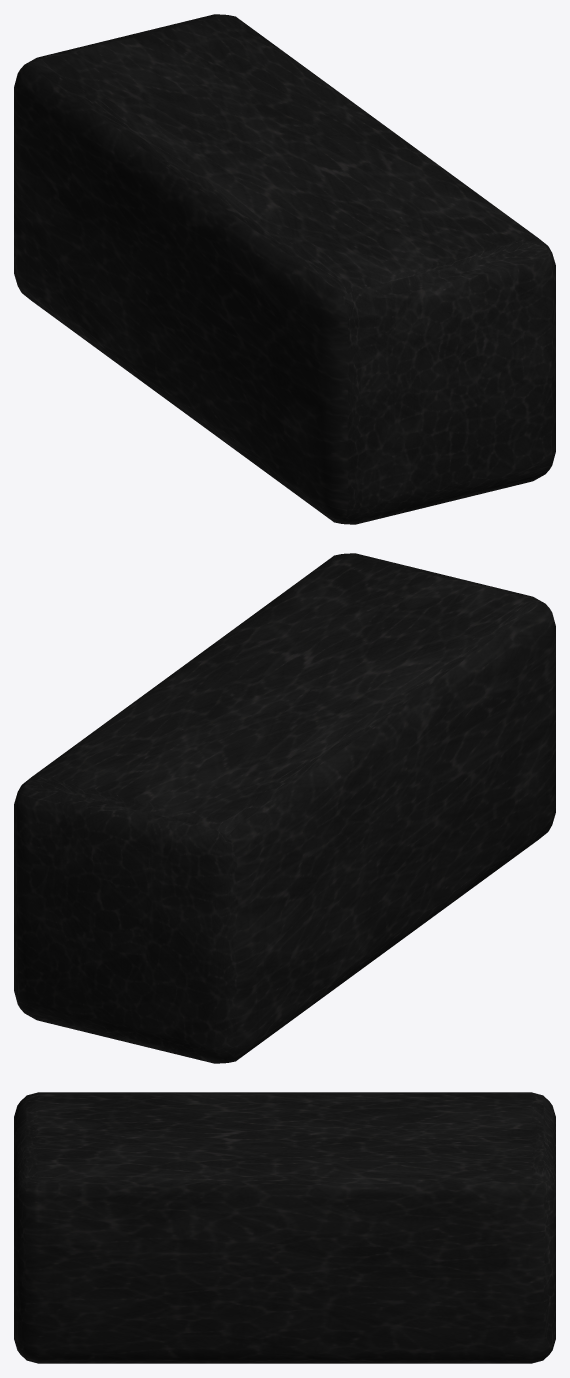
File: leather_seat.fbx
The picture shows the model from 3 angles, top to bottom: view 1: azimuth 30°, elevation 25°; view 2: azimuth 150°, elevation 25°; view 3: azimuth 270°, elevation 25°; orthographic projection. The views are drawn at different scales.
Visible parts, largest first — view 1: Cube; view 2: Cube; view 3: Cube.
Part boxes in pixels (box(x1,y1,x2,y2)): Cube: box(14, 14, 555, 524); Cube: box(14, 553, 555, 1063); Cube: box(14, 1092, 555, 1363).
Bounding box in the file's own units: 200 × 200 × 500.
1 material, 1 textured.
